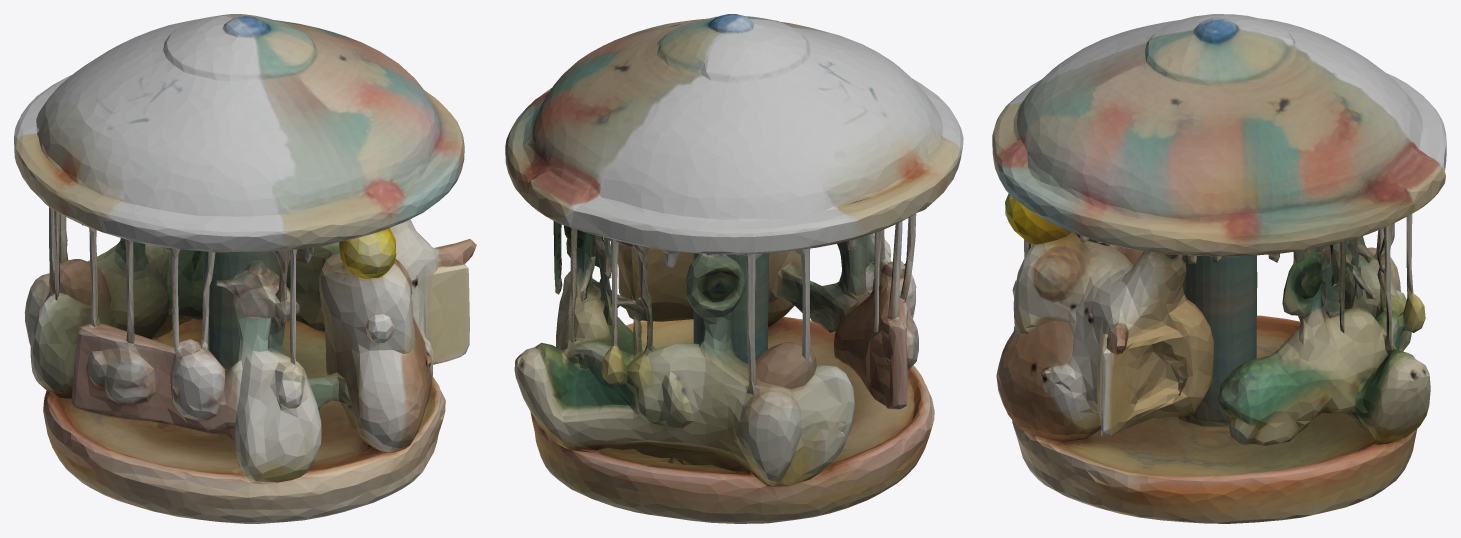
The picture shows the model from 3 angles, left to right: view 1: azimuth 30°, elevation 25°; view 2: azimuth 150°, elevation 25°; view 3: azimuth 270°, elevation 25°; orthographic projection.
Visible parts, largest first — view 1: world; view 2: world; view 3: world.
Part boxes in pixels (x1,y1,x2,y2): world: [14, 14, 476, 523]; world: [505, 14, 963, 523]; world: [992, 14, 1446, 523].
Size of the model in its own units: 0.5334 by 0.556 by 0.5346.
Materials: 1 (1 with a texture image).
